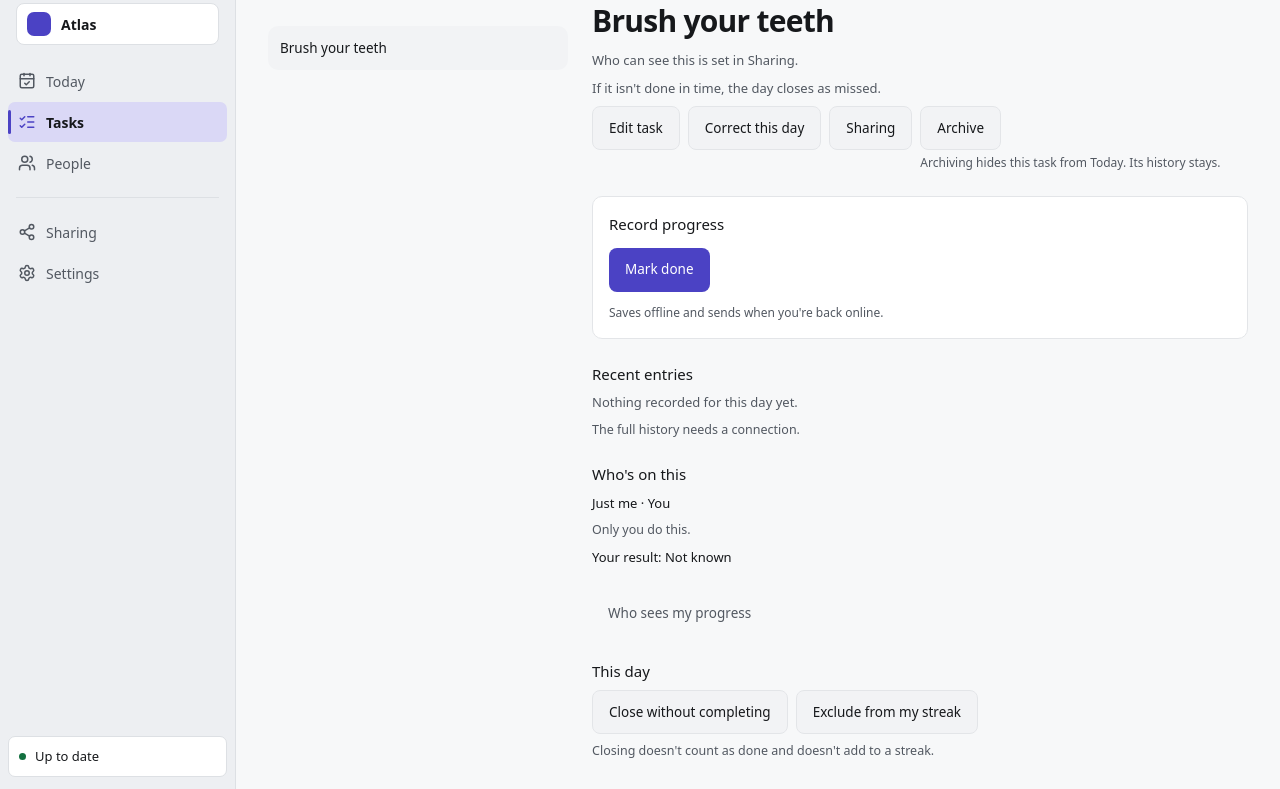
Test case: closure and streak exclusion (TASK-23 #1-#2; Q21) › with the policy on and my stream present, Exclude queues an exclude against my progress
This screenshot has width=1280, height=789.
(page scrolled)
Click the button "Exclude from my streak". click: (887, 712)
box: [796,690,978,734]
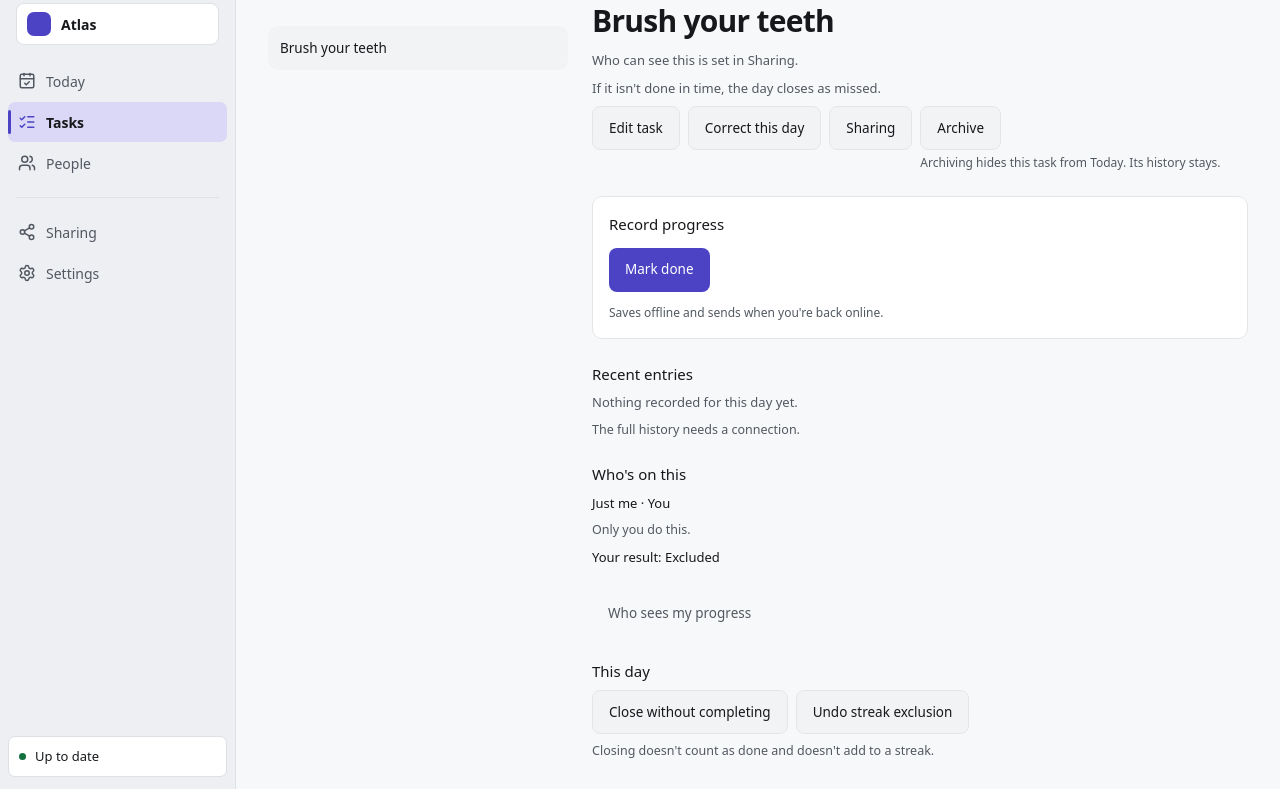
Check: the button "Undo streak exclusion" is shown, box [796,690,969,734]
